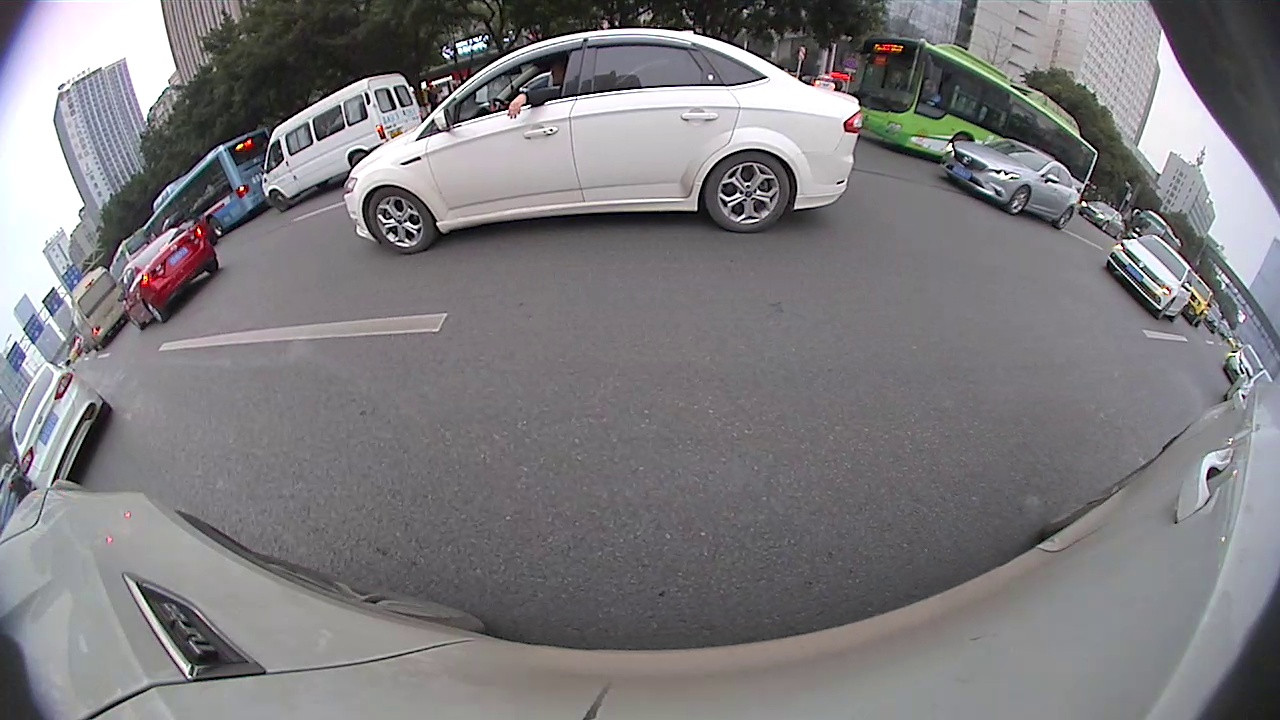bus: (857, 39, 1099, 210), (149, 132, 270, 254), (69, 265, 120, 346)
car: (346, 29, 864, 252), (265, 73, 422, 213), (942, 139, 1080, 231), (10, 363, 112, 480), (123, 227, 221, 331), (1106, 235, 1192, 321), (1223, 343, 1264, 386)
front: (365, 188, 432, 253), (1006, 188, 1031, 213), (268, 191, 287, 210)
rear: (700, 151, 792, 231), (144, 300, 167, 322), (1054, 207, 1074, 229), (207, 215, 221, 236)
